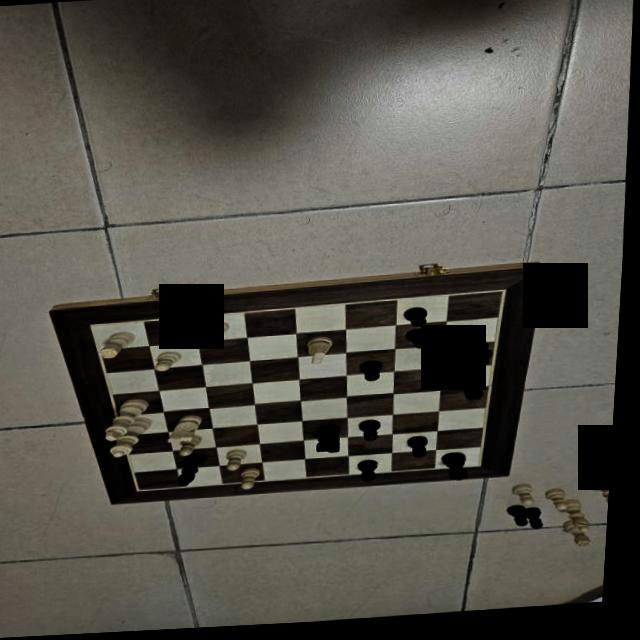chess-table-corners: (493, 292, 512, 302), (88, 322, 104, 331), (476, 468, 492, 476), (138, 487, 150, 496)
